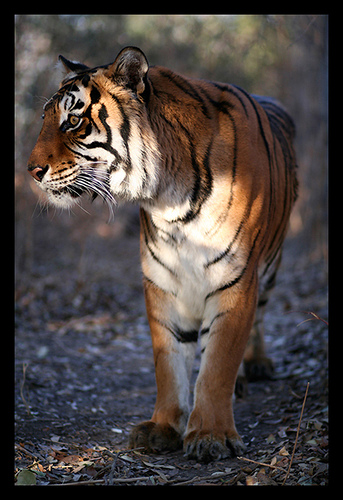Tigre: (32, 45, 291, 430)
